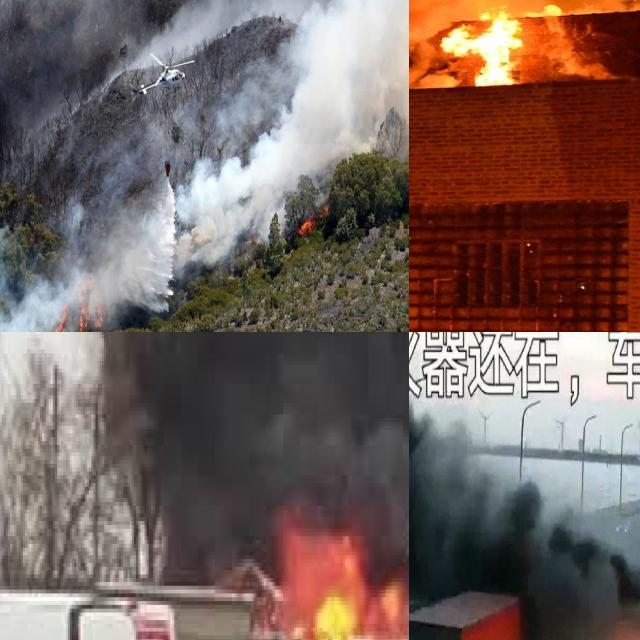fire: (249, 505, 409, 640), (431, 5, 563, 87), (52, 279, 111, 332), (298, 195, 332, 235)
smoke: (0, 0, 409, 332), (86, 332, 409, 578), (409, 369, 640, 640), (409, 69, 456, 92)
